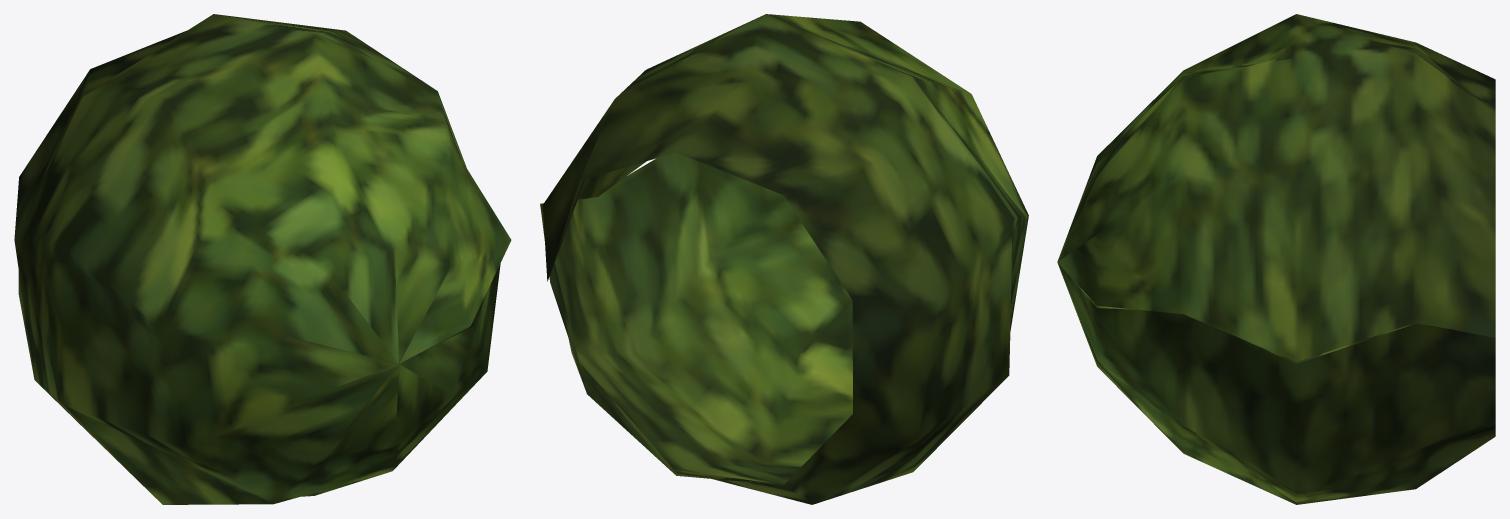
File: keep-keep-shrub-round.obj
3 renders of one model, left to right at view 1: azimuth 30°, elevation 25°; view 2: azimuth 150°, elevation 25°; view 3: azimuth 270°, elevation 25°, orthographic. The views are drawn at different scales.
Visible parts, largest first — view 1: shrub-round; view 2: shrub-round; view 3: shrub-round.
Part boxes in pixels (x1=…): shrub-round: x1=14, y1=14, x2=511, y2=504; shrub-round: x1=540, y1=14, x2=1028, y2=504; shrub-round: x1=1057, y1=14, x2=1495, y2=504.
Size of the model in its own units: 0.7244 by 0.7423 by 0.66.
1 material, 1 textured.
